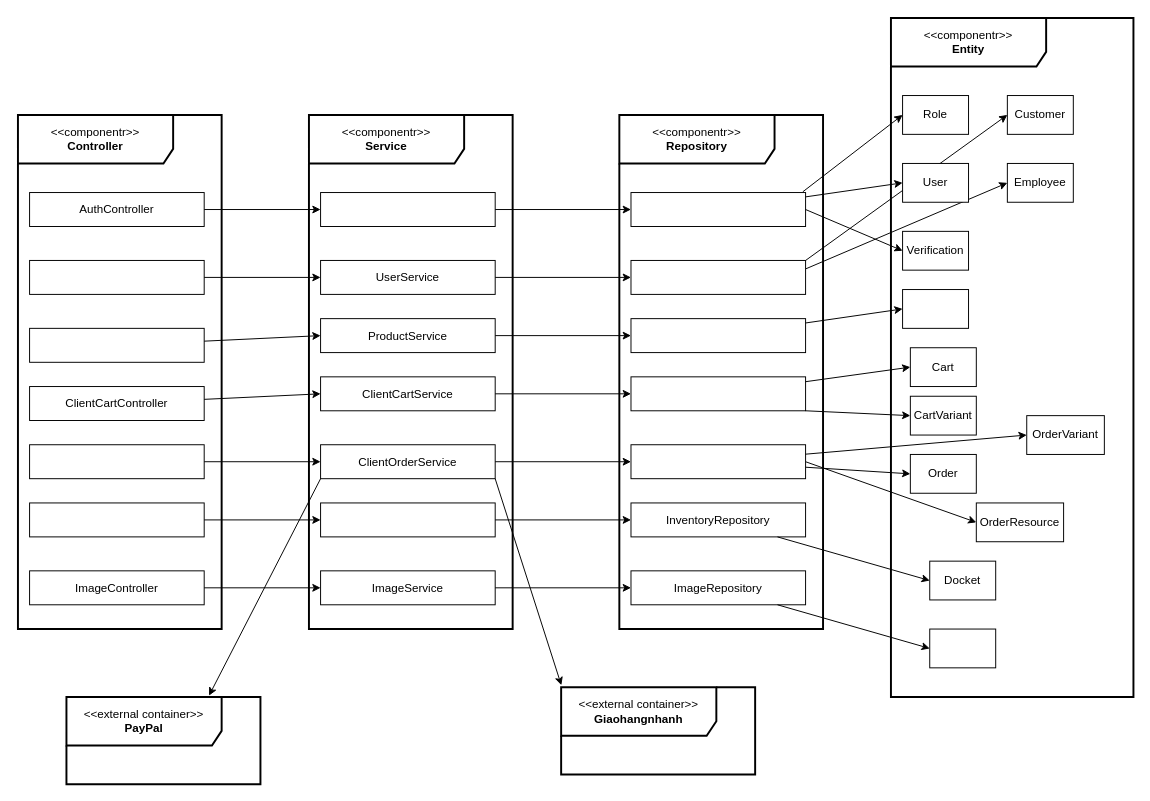
Some shapes in this 1150 by 801 pixel diagram are drawn without their labels. The shapes that lost their labels are listed below. From the top down, each one's centre as x and y in pixels, then its label:
At pixel 407 209: "VerificationServiceImpl".
At pixel 718 209: "VerificationRepository".
At pixel 116 276: "ClientUserController".
At pixel 718 276: "UserRepository".
At pixel 935 308: "Product".
At pixel 116 344: "ProductController".
At pixel 718 335: "ProductRepository".
At pixel 718 393: "CartRepository".
At pixel 116 461: "ClientOrderController".
At pixel 718 461: "OrderRepository".
At pixel 116 519: "InventoryController".
At pixel 407 519: "InventoryServiceImpl".
At pixel 962 648: "Image".
